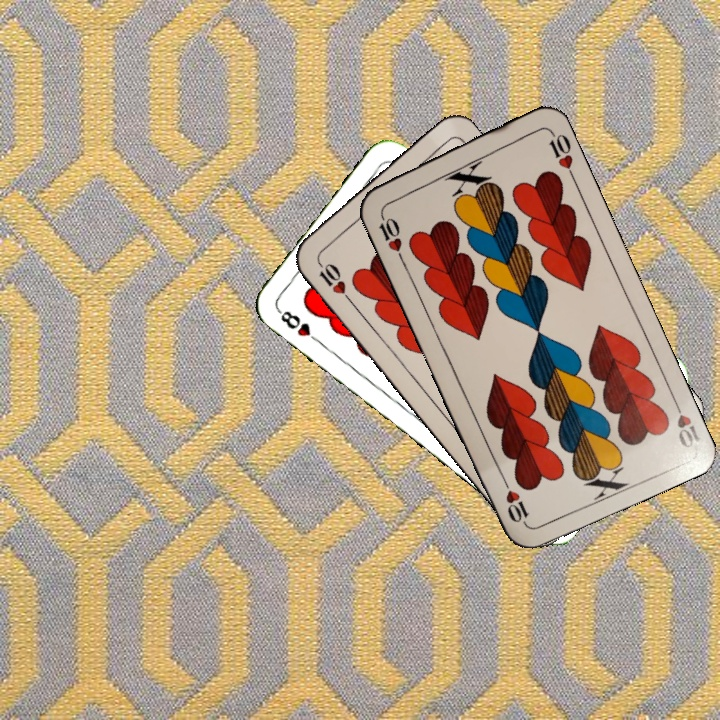H10: (312, 254, 354, 305), (668, 393, 703, 451), (375, 206, 406, 263)
H8: (273, 305, 324, 347)
